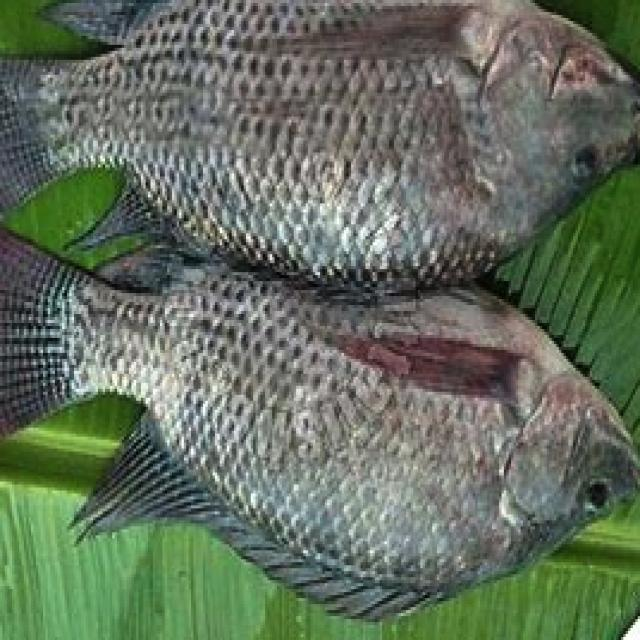Tilapia: (0, 236, 640, 621), (0, 0, 640, 301)
